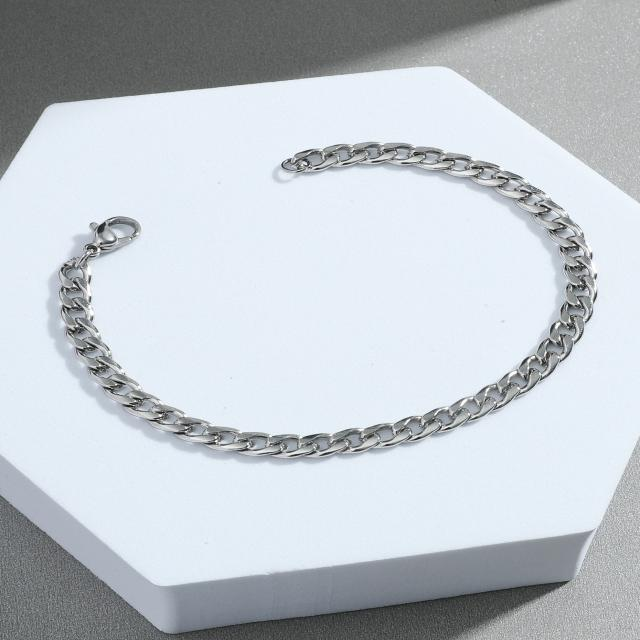bracelet: (41, 59, 640, 523)
